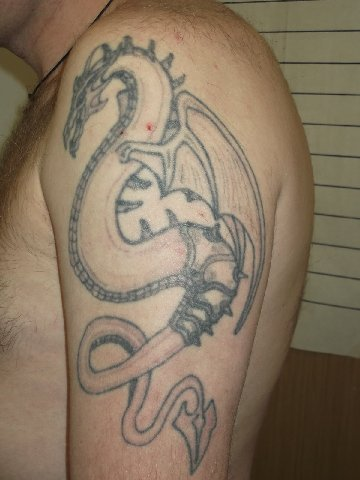tatu6_drakon: (42, 30, 284, 476)
